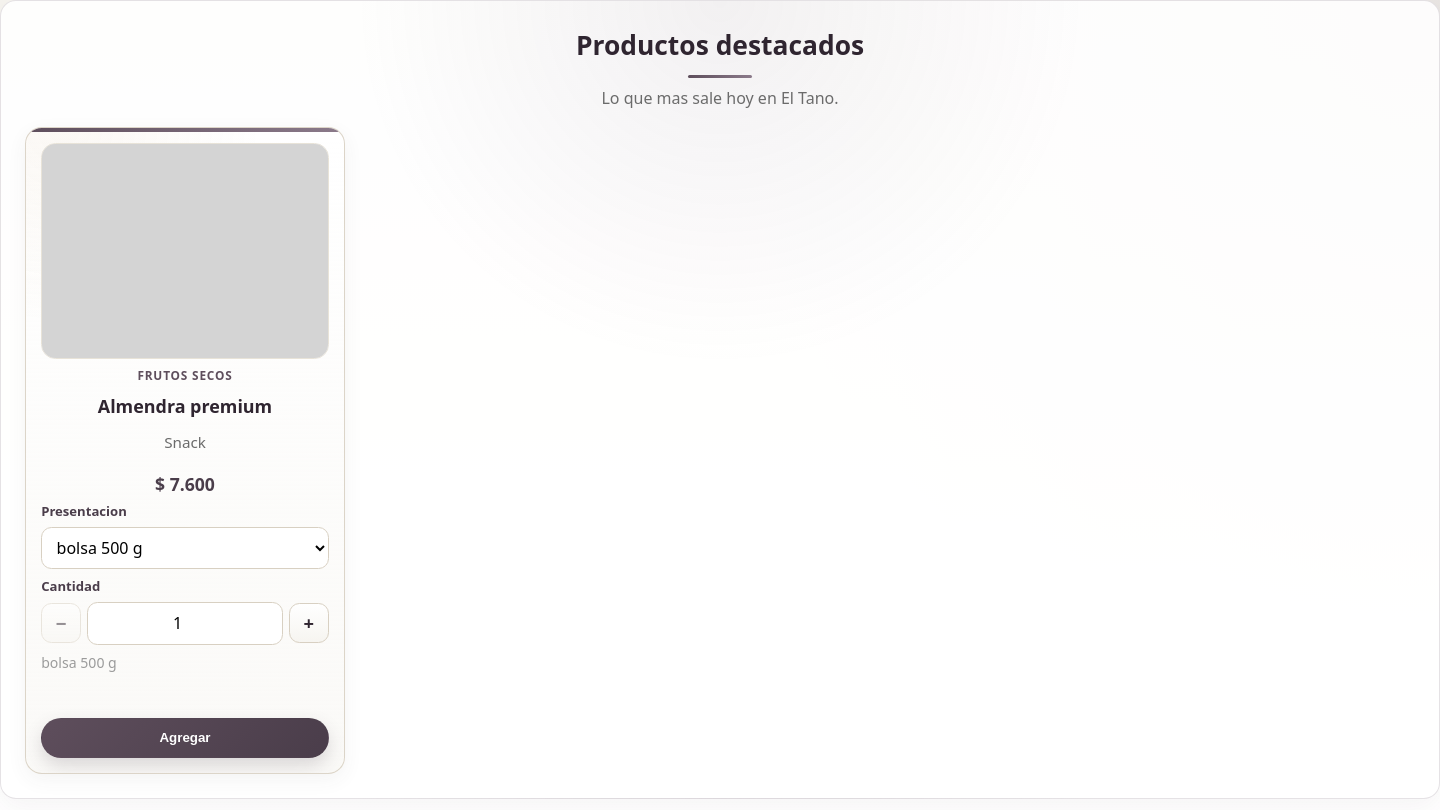
Test: FeaturedProductsSection › shows accessible added feedback after adding a product
The width and height of the screenshot is (1440, 810).
Select "bolsa 250 g" in the dropdown named "Presentacion para Almendra premium" at (185, 548), box [41,527,329,569]
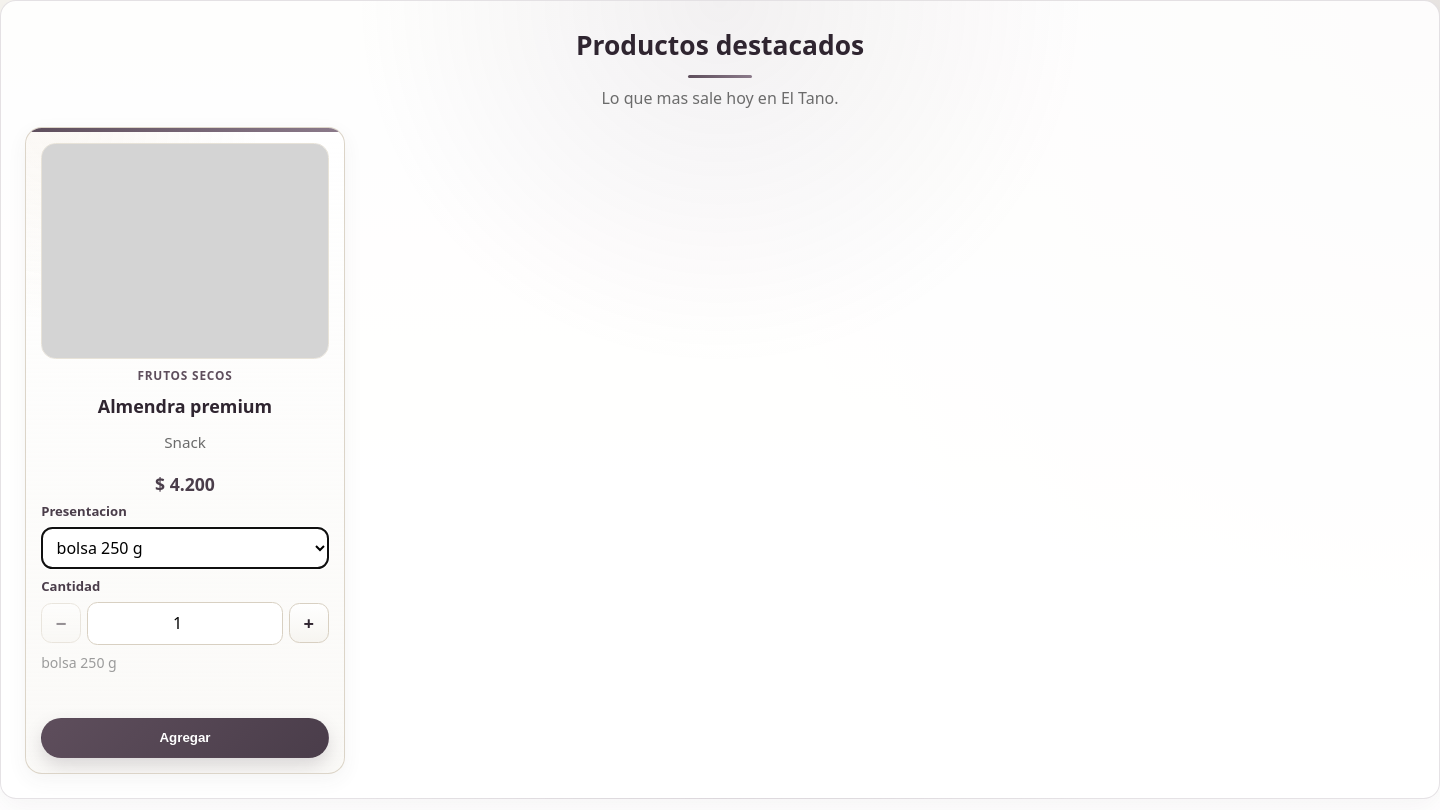
Click the button "Agregar" at (185, 738), box [41,718,329,758]
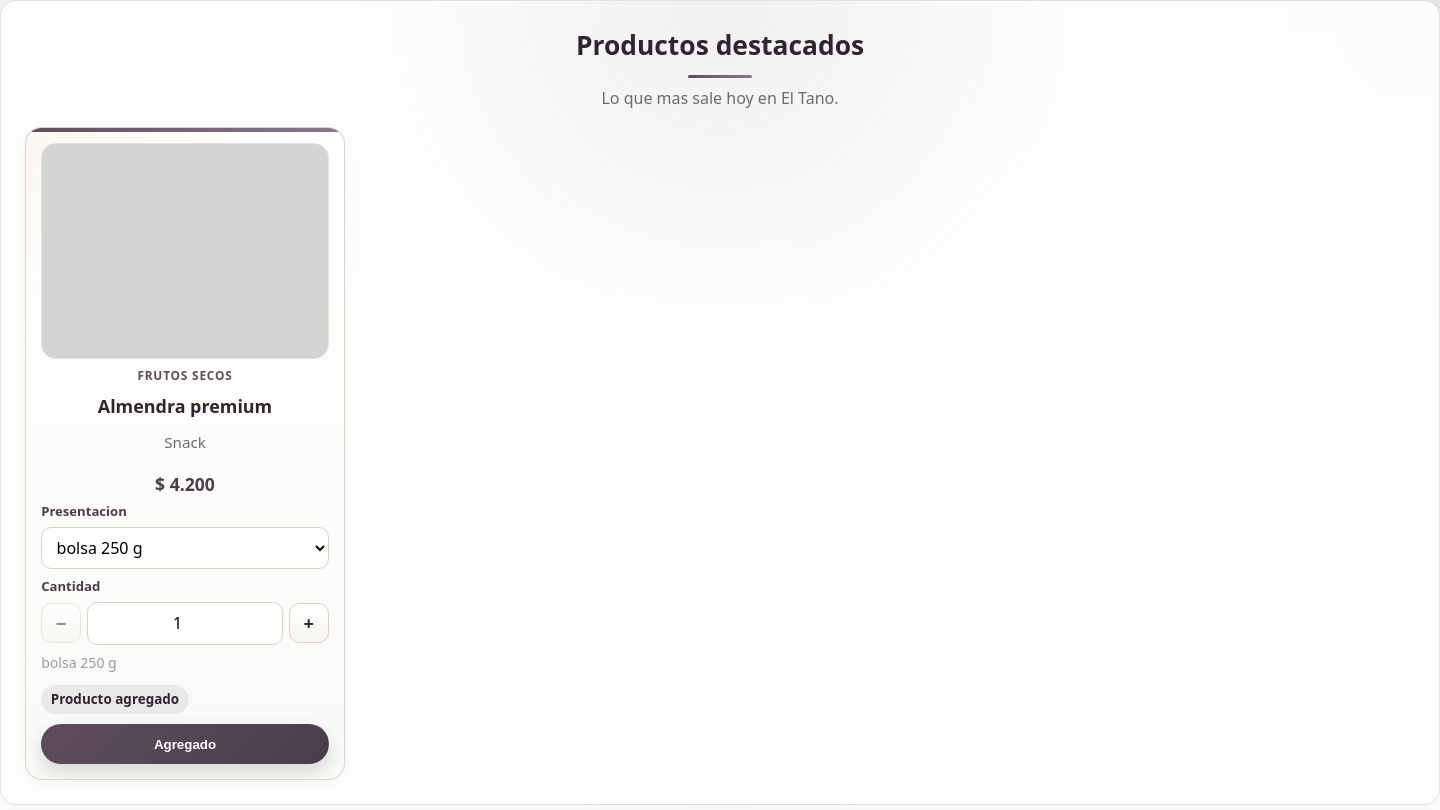
expect the button "Agregado" is shown: met, box [41,724,329,764]
expect the message reads "Producto agregado": met, box [51,690,179,708]
